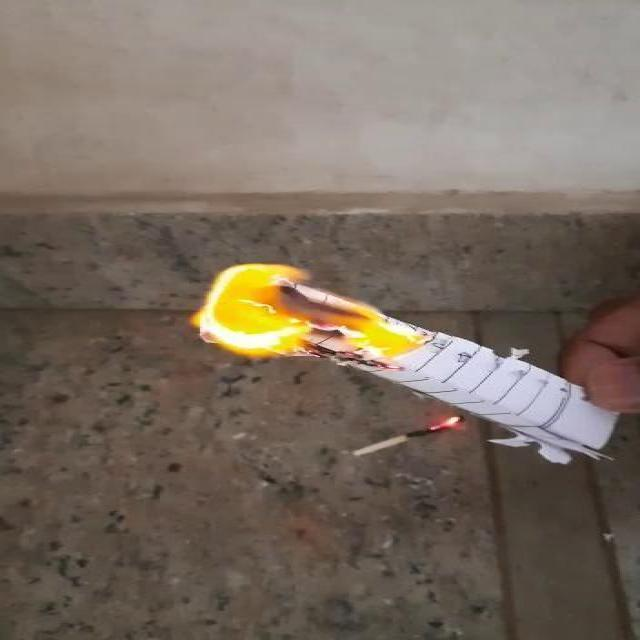fire: (191, 263, 418, 366)
